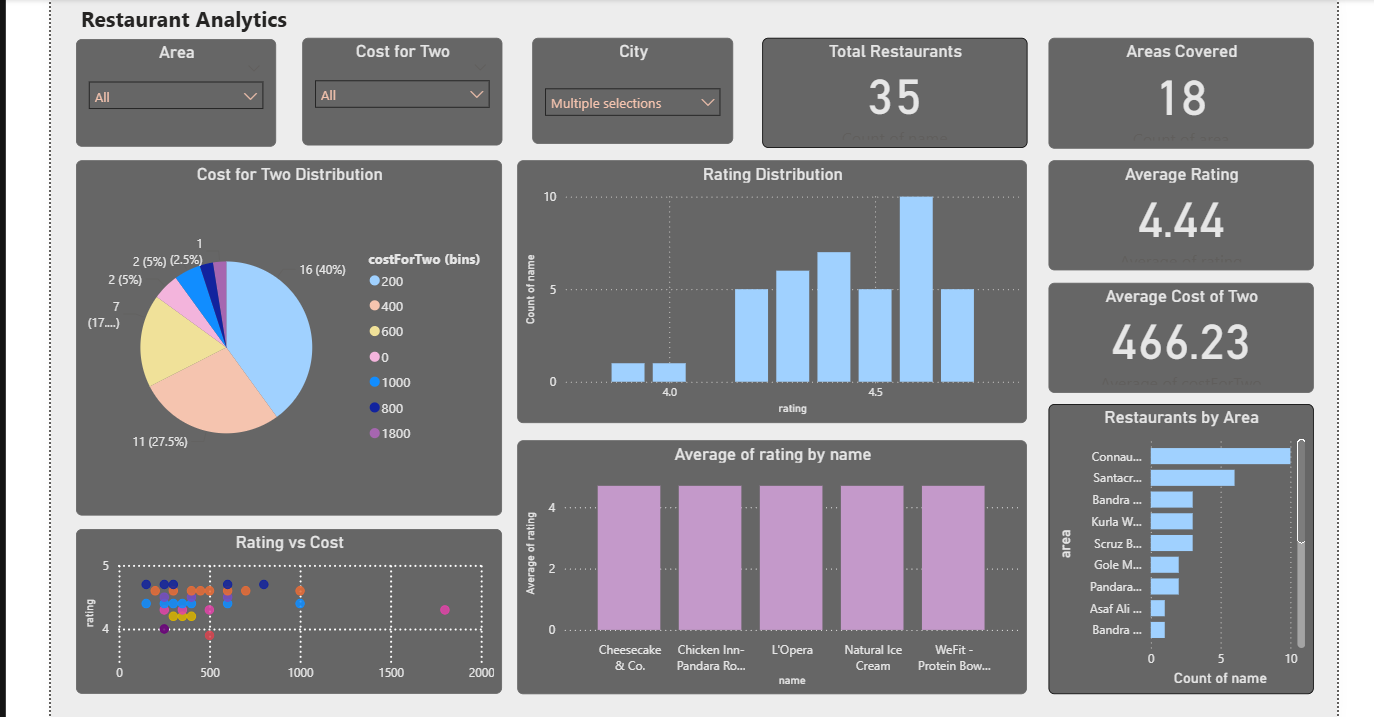

What the dashboard file says about the page in this screenshot:
{"tool":"powerbi","page":{"name":"Page 1","canvas":[1280,720],"ordinal":0},"visuals":[{"type":"textbox","box":[24.9,0,398.1,46],"z":0},{"type":"card","title":"Average Rating","fields":{"Values":["Avg(restaurants_all_cities.rating)"]},"box":[992.7,160.5,263.7,109.5],"z":1000},{"type":"card","title":"Total Restaurants","fields":{"Values":["CountNonNull(restaurants_all_cities.name)"]},"box":[707.8,38.6,263.7,109.5],"z":2000},{"type":"card","title":"Average Cost of Two","fields":{"Values":["Avg(restaurants_all_cities.costForTwo)"]},"box":[992.7,282.4,263.7,109.5],"z":3000},{"type":"card","title":"Areas Covered","fields":{"Values":["Count(restaurants_all_cities.area)"]},"box":[992.7,38.6,263.7,110.7],"z":4000},{"type":"clusteredBarChart","title":"Restaurants by Area","fields":{"Y":["CountNonNull(restaurants_all_cities.name)"],"Category":["restaurants_all_cities.area"]},"box":[992.7,403,263.7,288.6],"z":5000},{"type":"clusteredColumnChart","title":"Rating Distribution","fields":{"Category":["restaurants_all_cities.rating"],"Y":["CountNonNull(restaurants_all_cities.name)"]},"box":[464,160.5,507.5,261.2],"z":6000},{"type":"pieChart","title":"Cost for Two Distribution","fields":{"Category":["restaurants_all_cities.costForTwo (bins)"],"Y":["CountNonNull(restaurants_all_cities.name)"]},"box":[24.9,160.5,424.2,353.3],"z":7000},{"type":"scatterChart","title":"Rating vs Cost","fields":{"X":["restaurants_all_cities.costForTwo"],"Y":["restaurants_all_cities.rating"]},"box":[24.9,527.4,424.2,164.2],"z":8000},{"type":"slicer","title":"Area","fields":{"Values":["restaurants_all_cities.area"]},"box":[24.9,39.8,199,107],"z":9000},{"type":"slicer","title":"Cost for Two","fields":{"Values":["restaurants_all_cities.costForTwo"]},"box":[250,38.6,199,107],"z":10000},{"type":"clusteredColumnChart","fields":{"Category":["restaurants_all_cities.name"],"Y":["Avg(restaurants_all_cities.rating)"]},"box":[464,439.1,507.5,252.5],"z":11000},{"type":"slicer","title":"City","fields":{"Values":["restaurants_all_cities.city"]},"box":[478.9,38.6,200.3,105.7],"z":12000}]}

Visuals, with their boxes in screenshot pixels (x1, y1, x2, y2):
textbox: bbox(61, 0, 466, 36)
"Average Rating" card: bbox(1045, 152, 1313, 264)
"Total Restaurants" card: bbox(755, 28, 1023, 140)
"Average Cost of Two" card: bbox(1045, 276, 1313, 388)
"Areas Covered" card: bbox(1045, 28, 1313, 141)
"Restaurants by Area" clusteredBarChart: bbox(1045, 399, 1313, 692)
"Rating Distribution" clusteredColumnChart: bbox(507, 152, 1023, 418)
"Cost for Two Distribution" pieChart: bbox(61, 152, 492, 511)
"Rating vs Cost" scatterChart: bbox(61, 525, 492, 692)
"Area" slicer: bbox(61, 30, 263, 138)
"Cost for Two" slicer: bbox(290, 28, 492, 137)
clusteredColumnChart - restaurants_all_cities.name x Avg(restaurants_all_cities.rating): bbox(507, 435, 1023, 692)
"City" slicer: bbox(522, 28, 726, 136)
